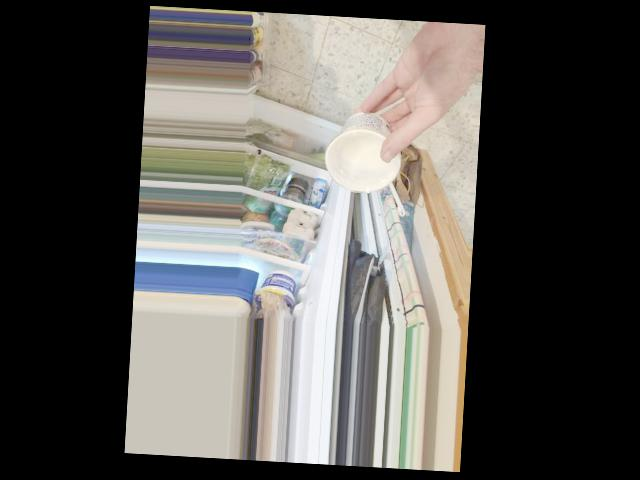cotage: (334, 105, 407, 194)
